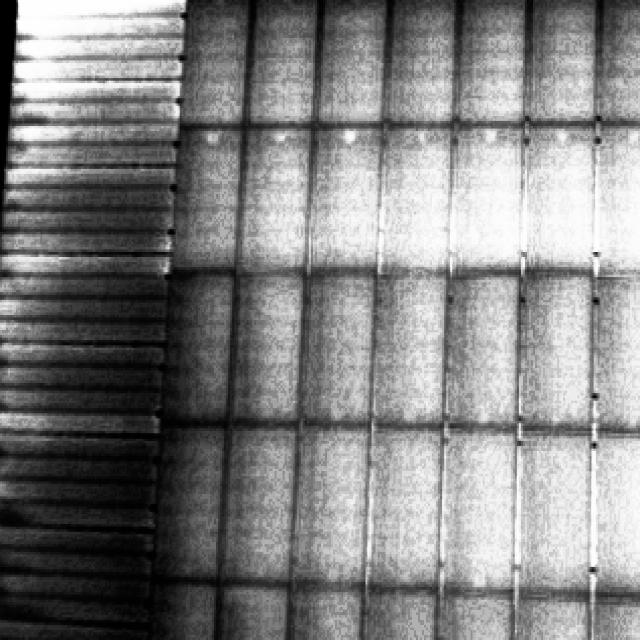Hotspots: (338, 129, 360, 148), (481, 125, 500, 146), (201, 128, 219, 148), (624, 124, 640, 144), (555, 125, 572, 143), (412, 127, 428, 145), (273, 128, 286, 146), (484, 0, 504, 5), (210, 0, 228, 5), (416, 0, 434, 5), (278, 0, 298, 3), (348, 0, 363, 3)
PV-modules: (520, 428, 601, 594), (291, 423, 373, 583), (438, 425, 516, 592), (521, 271, 602, 427), (369, 423, 444, 590), (232, 270, 312, 424), (441, 272, 520, 427), (226, 423, 301, 584), (305, 271, 381, 424), (152, 426, 225, 585), (523, 124, 599, 276), (374, 271, 448, 425), (161, 269, 234, 424), (448, 125, 525, 271), (240, 125, 314, 270), (380, 125, 454, 269), (307, 126, 380, 270), (168, 126, 241, 268), (448, 0, 529, 126), (244, 0, 320, 123), (384, 0, 458, 126), (313, 0, 386, 126), (182, 0, 254, 126), (525, 0, 597, 123), (595, 428, 640, 594), (595, 275, 640, 431), (599, 121, 640, 277), (599, 0, 640, 126), (212, 579, 293, 640), (282, 584, 363, 640), (365, 584, 444, 640), (149, 579, 221, 640), (434, 587, 513, 640), (511, 592, 594, 640), (587, 594, 640, 640)
